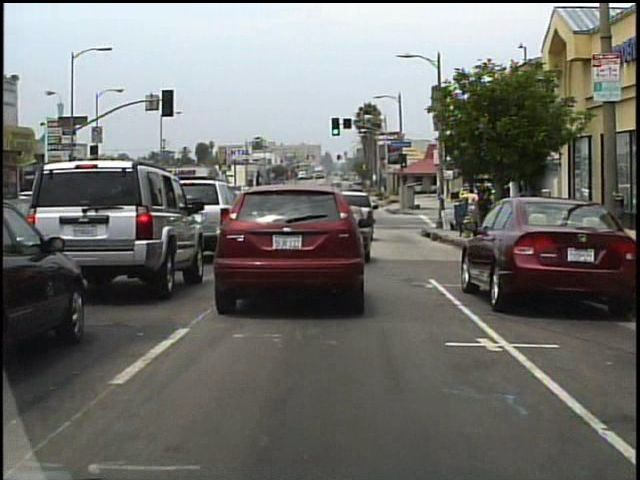person: (476, 193, 492, 242)
